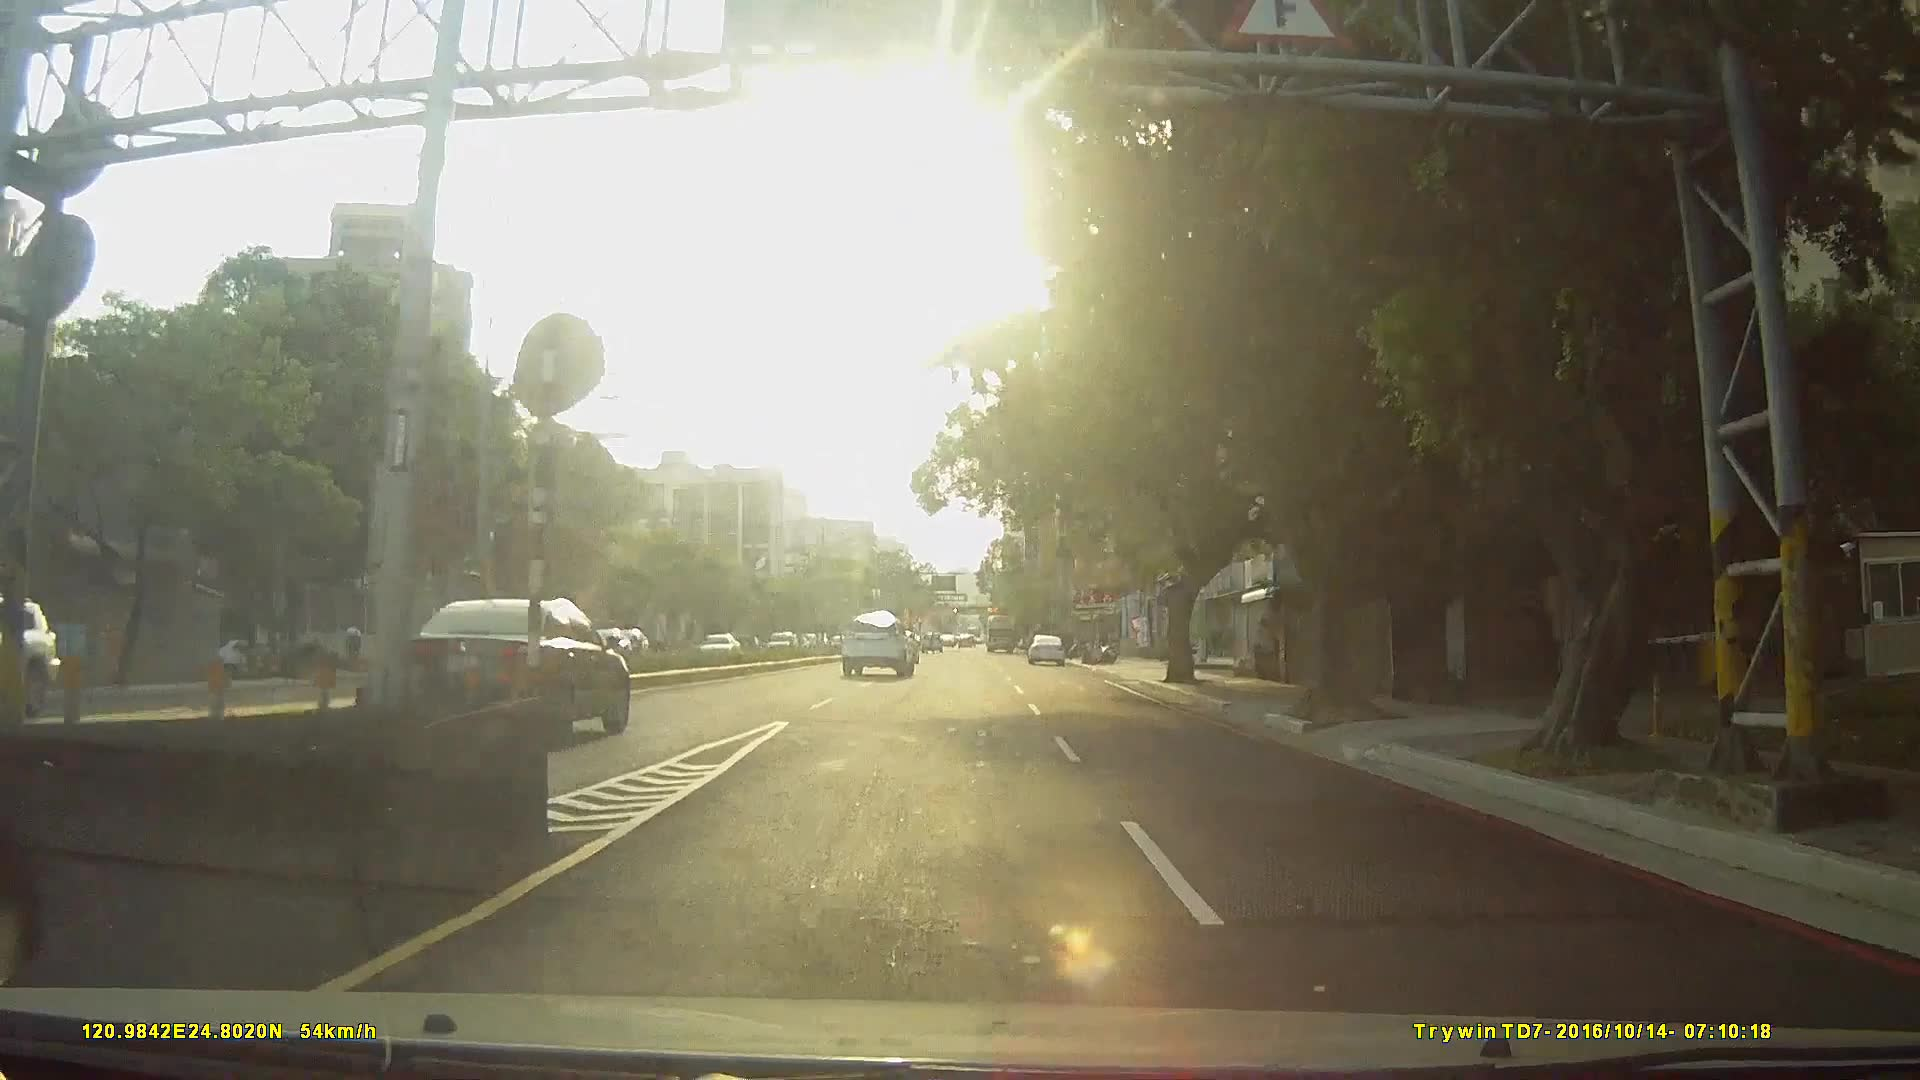pedestrian: (343, 623, 368, 677)
vehicle: (395, 594, 632, 737), (838, 608, 915, 675), (1025, 631, 1066, 666), (982, 611, 1016, 653)
